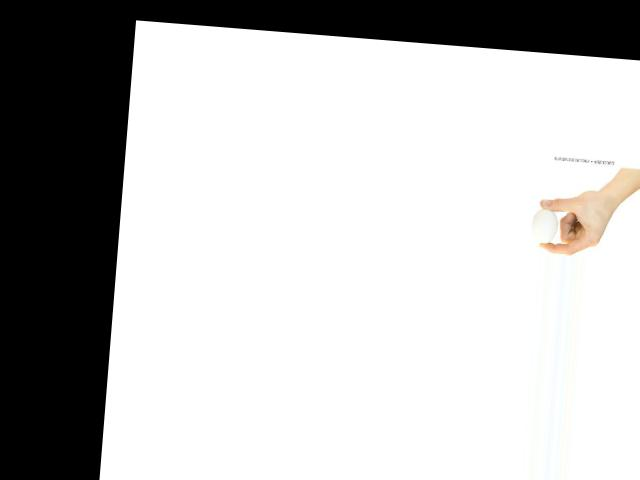egg: (532, 207, 559, 244)
